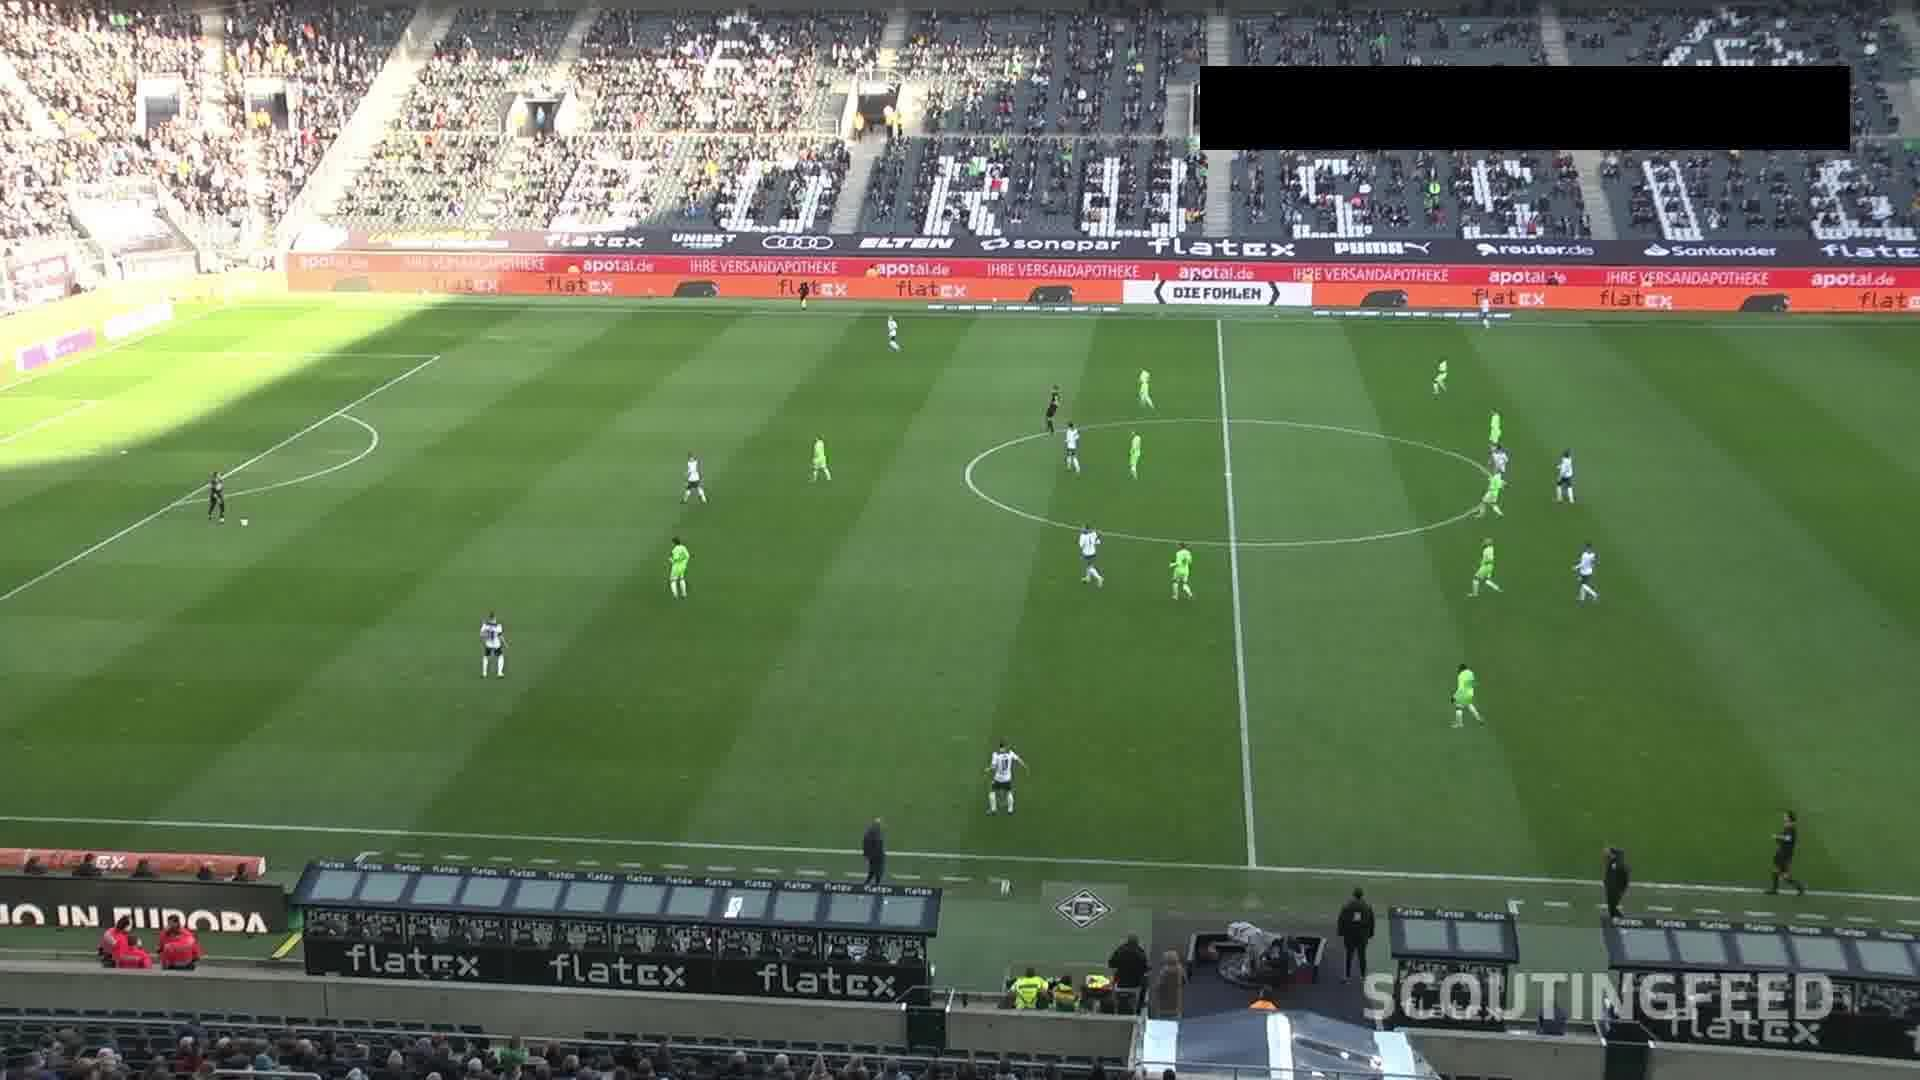football: (239, 517, 249, 529)
